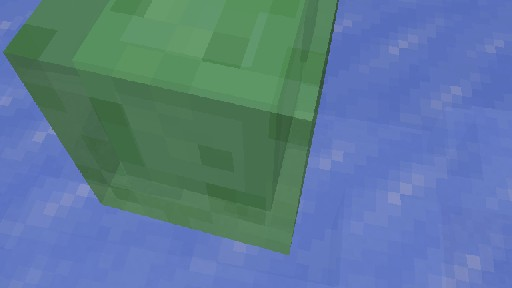slime: (2, 0, 355, 255)
